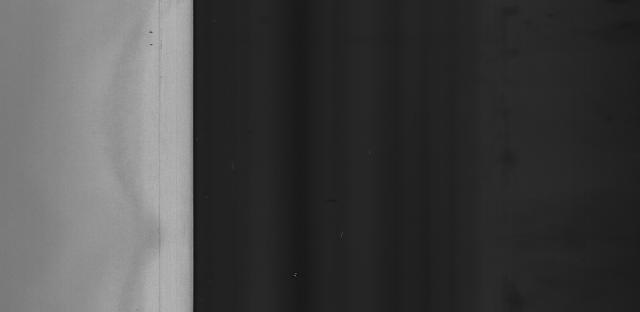inclusion: (146, 28, 156, 49)
